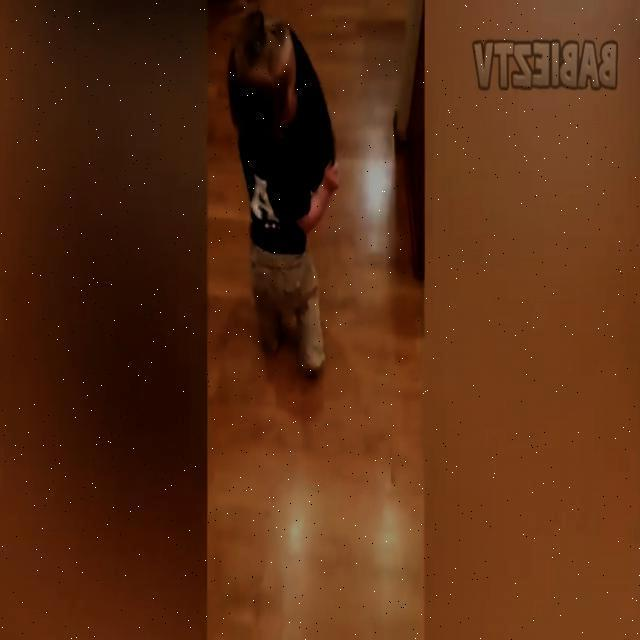child: (228, 11, 339, 378)
